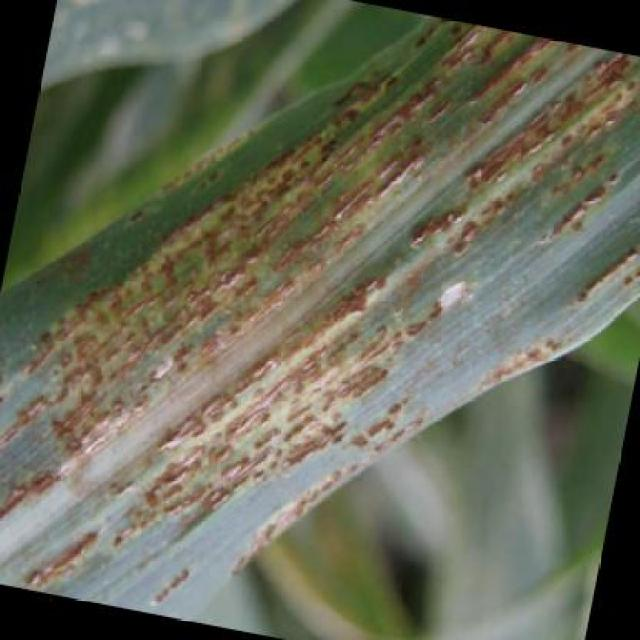Corn_Rust: (51, 50, 582, 592)
